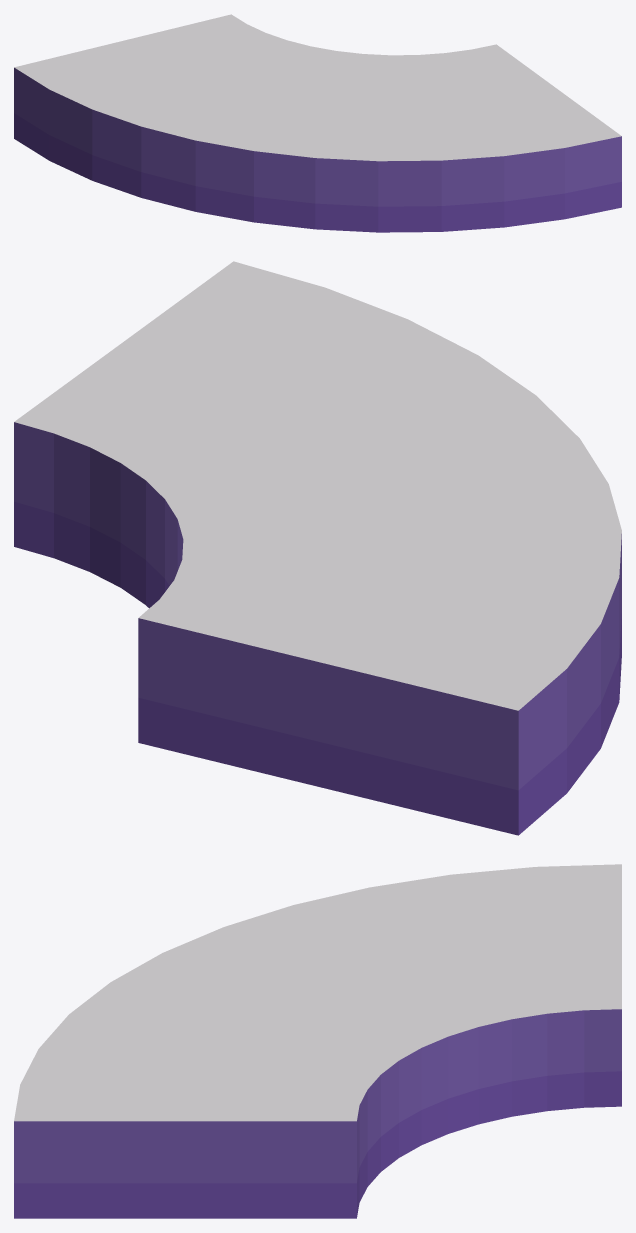
The model's file is Platfrom90Left.fbx.
3 renders of one model, top to bottom at view 1: azimuth 30°, elevation 25°; view 2: azimuth 150°, elevation 25°; view 3: azimuth 270°, elevation 25°, orthographic. The views are drawn at different scales.
Visible parts, largest first — view 1: Platfrom90Left; view 2: Platfrom90Left; view 3: Platfrom90Left.
Boxes of the visible parts, bbox=[...] form: Platfrom90Left: bbox=[14, 14, 621, 232]; Platfrom90Left: bbox=[14, 261, 621, 835]; Platfrom90Left: bbox=[14, 864, 621, 1218].
Bounding box in the file's own units: 887 × 157 × 887.
